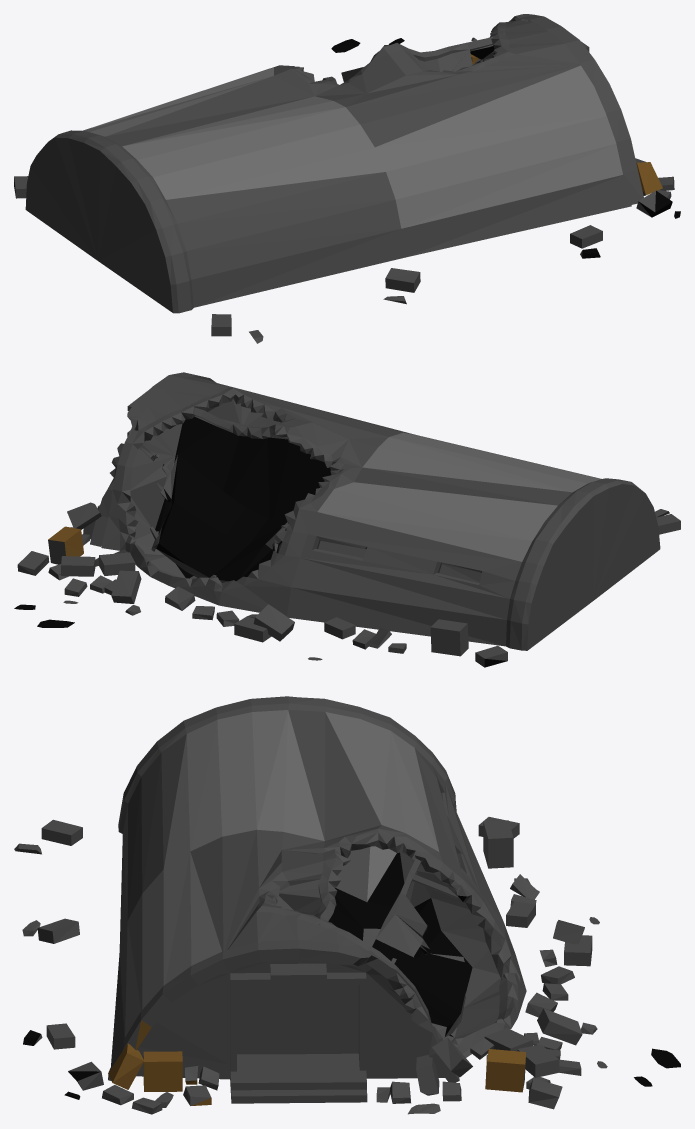
Rendered from building barracks destroyed.glb.
3 views of the same model, one above another, from view 1: azimuth 30°, elevation 25°; view 2: azimuth 150°, elevation 25°; view 3: azimuth 270°, elevation 25° (orthographic). The views are drawn at different scales.
Visible parts, largest first — view 1: tripo_node_748ead01-be8d-4e71-9a52-f5511694d6e9; view 2: tripo_node_748ead01-be8d-4e71-9a52-f5511694d6e9; view 3: tripo_node_748ead01-be8d-4e71-9a52-f5511694d6e9.
Part boxes in pixels (x1,y1,x2,y2): tripo_node_748ead01-be8d-4e71-9a52-f5511694d6e9: (14, 14, 680, 343); tripo_node_748ead01-be8d-4e71-9a52-f5511694d6e9: (14, 372, 680, 667); tripo_node_748ead01-be8d-4e71-9a52-f5511694d6e9: (14, 696, 680, 1114).
Bounding box in the file's own units: 10.02 × 2.71 × 9.78.
